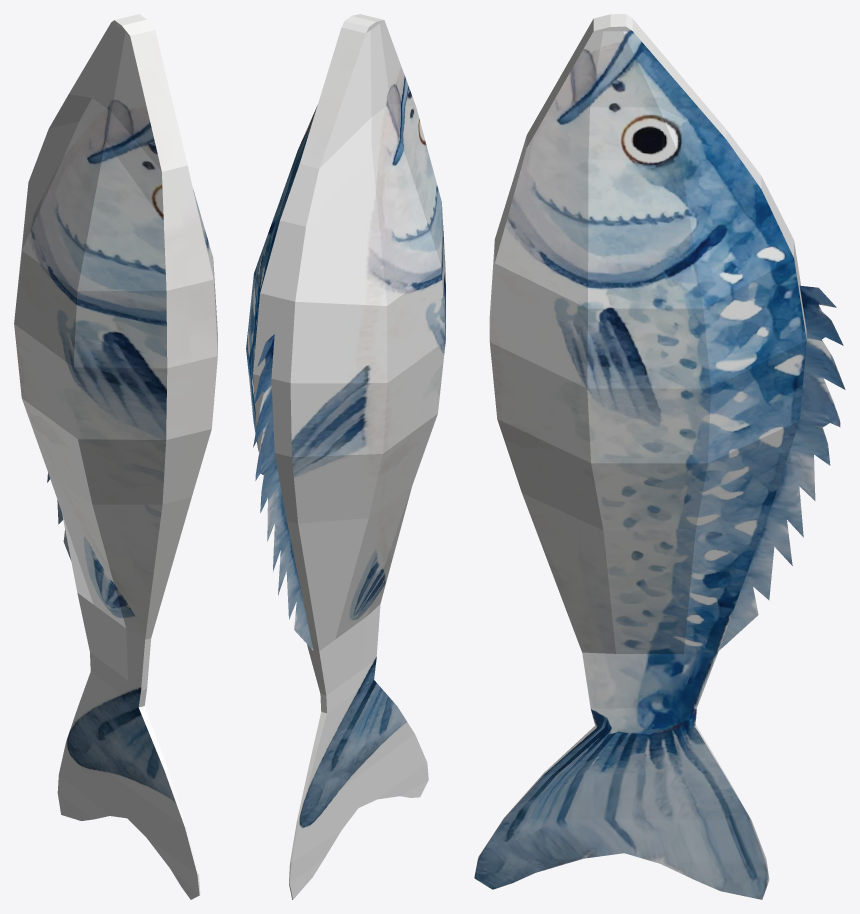
File: pish.fbx
The picture shows the model from 3 angles, left to right: view 1: azimuth 30°, elevation 25°; view 2: azimuth 150°, elevation 25°; view 3: azimuth 270°, elevation 25°; orthographic projection. The views are drawn at different scales.
Parts seen in each view (by area): view 1: Cube.001; view 2: Cube.001; view 3: Cube.001.
Part boxes in pixels (<box>): Cube.001: <box>14,14,217,899</box>; Cube.001: <box>246,14,445,899</box>; Cube.001: <box>474,14,845,899</box>.
Bounding box in the file's own units: 75.45 × 423 × 162.
